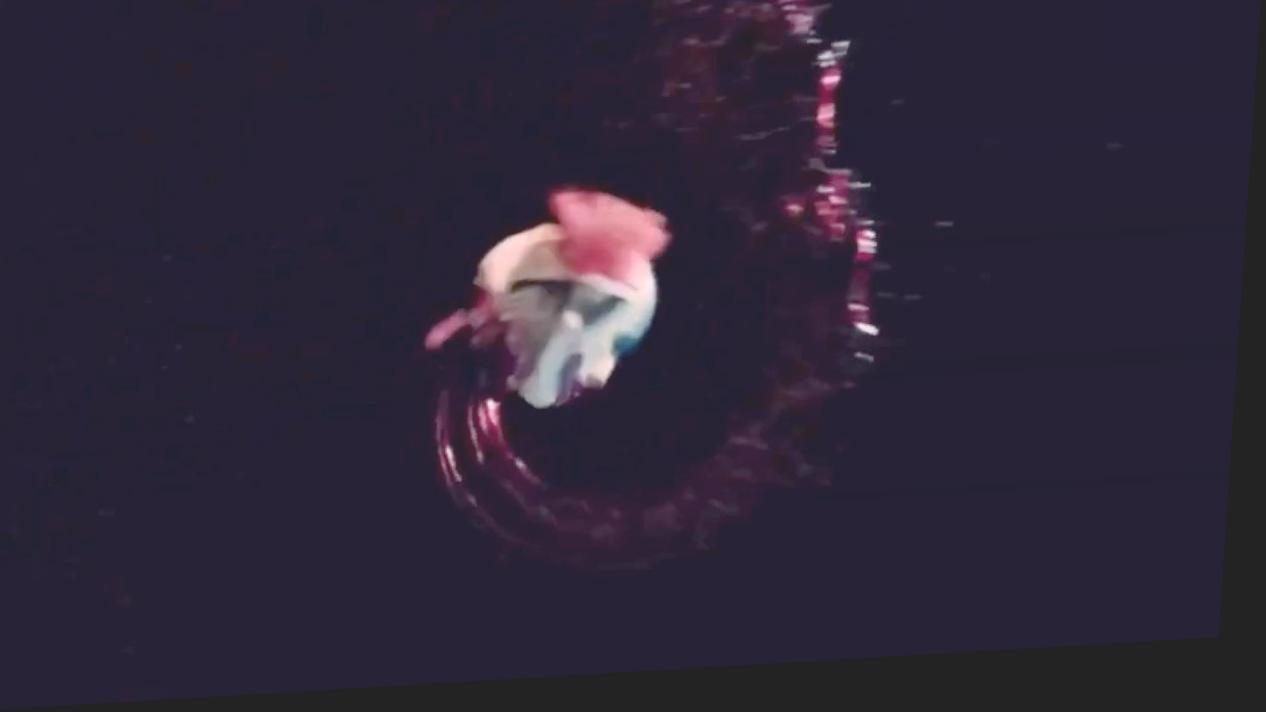Fire: (431, 0, 887, 574)
